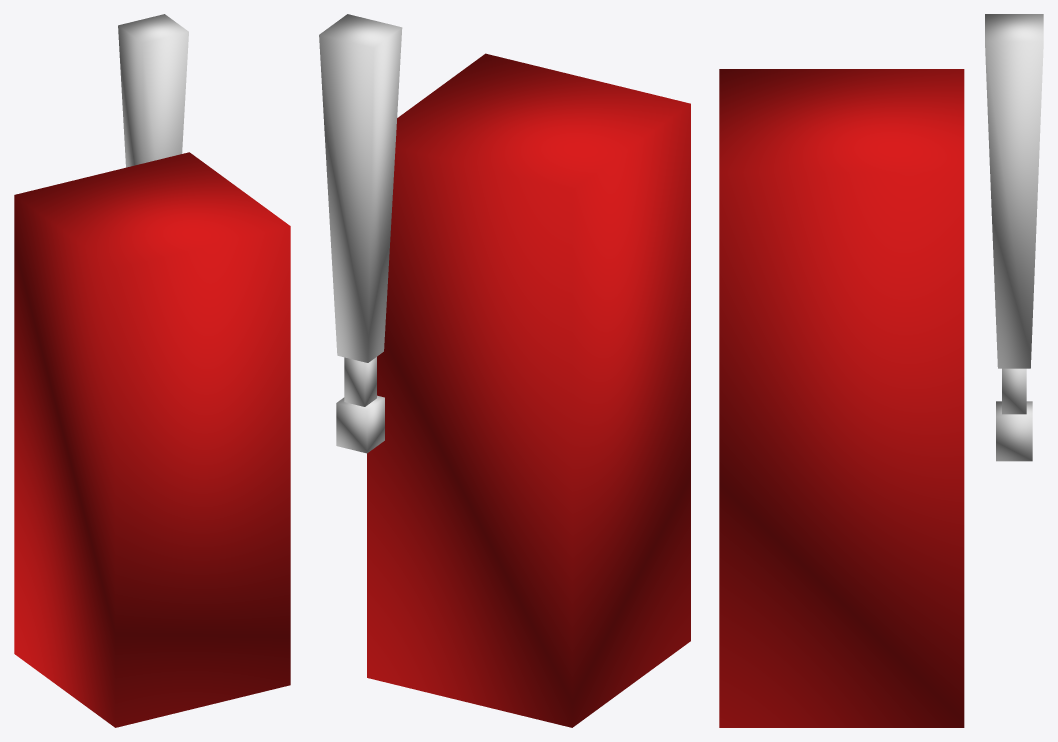
The model's file is bat.fbx.
3 views of the same model, side by side, from view 1: azimuth 30°, elevation 25°; view 2: azimuth 150°, elevation 25°; view 3: azimuth 270°, elevation 25° (orthographic). The views are drawn at different scales.
Visible parts, largest first — view 1: Cubo, Cubo.1; view 2: Cubo, Cubo.1, Cubo.2, Cubo.3; view 3: Cubo, Cubo.1, Cubo.2, Cubo.3.
Boxes of the visible parts, <box> form: Cubo: <box>14,152,290,727</box>; Cubo.1: <box>118,14,188,167</box>; Cubo: <box>367,53,690,727</box>; Cubo.1: <box>319,14,402,362</box>; Cubo.2: <box>336,395,384,453</box>; Cubo.3: <box>344,357,376,406</box>; Cubo: <box>719,69,964,727</box>; Cubo.1: <box>985,14,1043,368</box>; Cubo.2: <box>996,401,1032,461</box>; Cubo.3: <box>1002,368,1026,414</box>.
Bounding box in the file's own units: 105 × 311 × 132.
